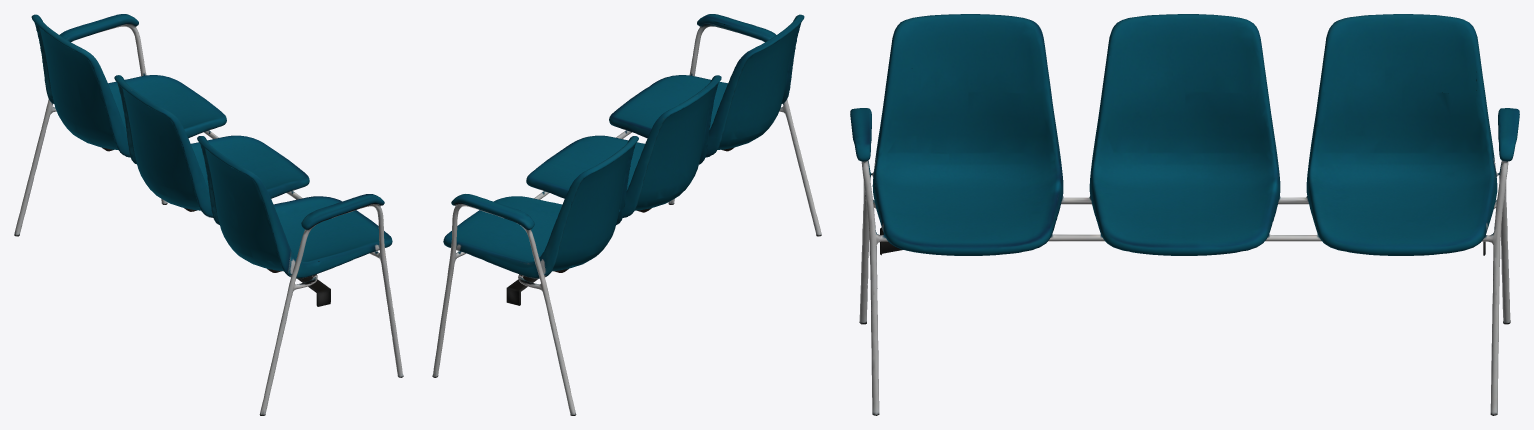
File: repaired.glb
3 renders of one model, left to right at view 1: azimuth 30°, elevation 25°; view 2: azimuth 150°, elevation 25°; view 3: azimuth 270°, elevation 25°, orthographic. The views are drawn at different scales.
Parts seen in each view (by area): view 1: repaired; view 2: repaired; view 3: repaired.
Part boxes in pixels (x1,y1,x2,y2): repaired: (14,14,403,415); repaired: (432,14,821,415); repaired: (850,14,1519,415).
Size of the model in its own units: 0.3534 by 0.5051 by 0.9995.
1 material, 1 textured.
